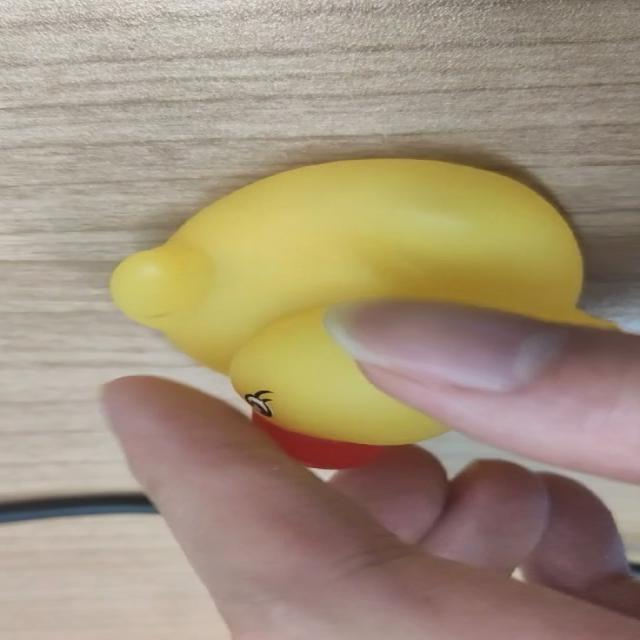rubber-duck: (109, 158, 611, 465)
